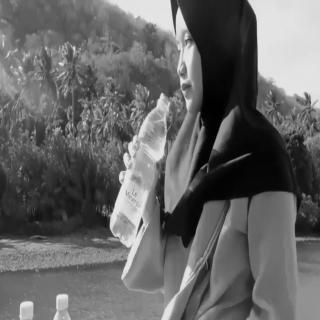plastic_bottles: (110, 88, 171, 250)
